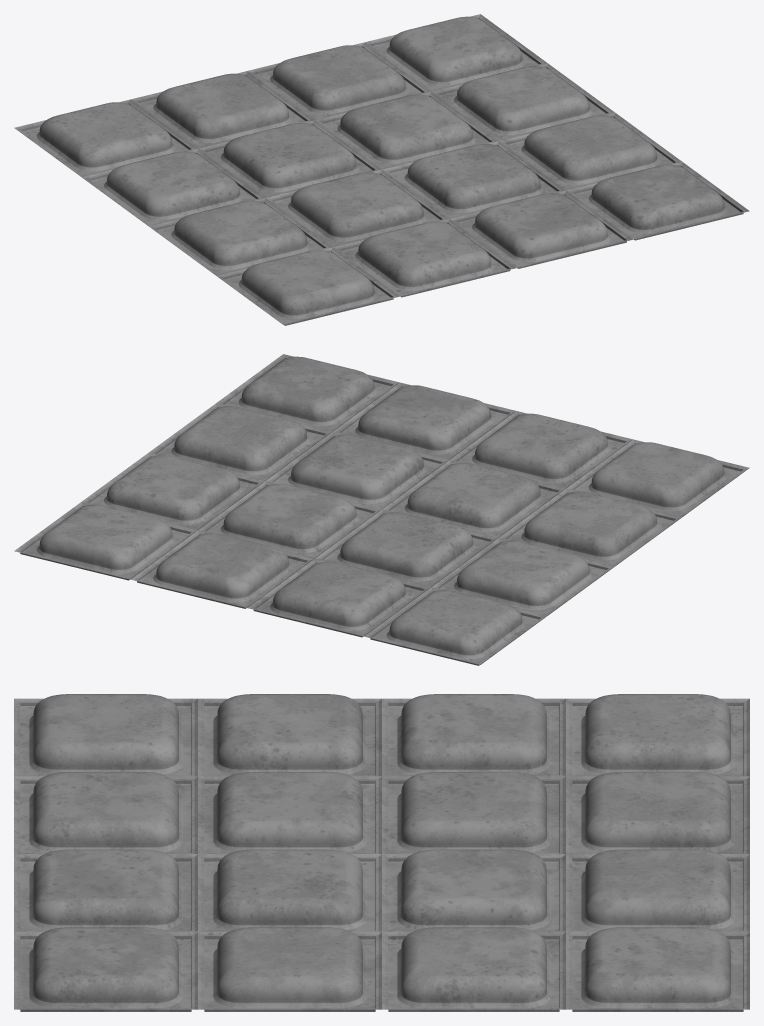
The model's file is SM_Ceiling_01.fbx.
The picture shows the model from 3 angles, top to bottom: view 1: azimuth 30°, elevation 25°; view 2: azimuth 150°, elevation 25°; view 3: azimuth 270°, elevation 25°; orthographic projection. The views are drawn at different scales.
Parts seen in each view (by area): view 1: SM_Ceiling_01; view 2: SM_Ceiling_01; view 3: SM_Ceiling_01.
Part boxes in pixels (left/top/right/bottom): SM_Ceiling_01: left=14, top=14, right=749, bottom=325; SM_Ceiling_01: left=14, top=354, right=749, bottom=665; SM_Ceiling_01: left=14, top=694, right=749, bottom=1011.
Bounding box in the file's own units: 400 × 14.2 × 400.
